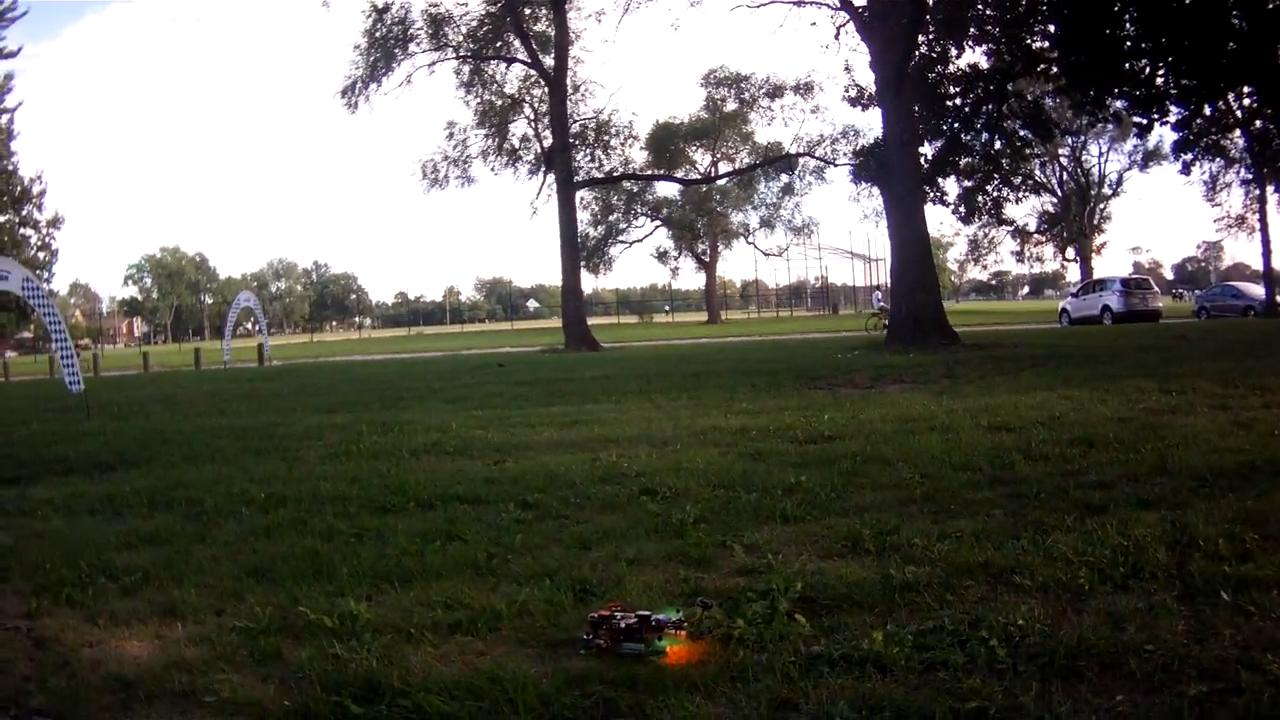gate: (220, 287, 270, 365)
